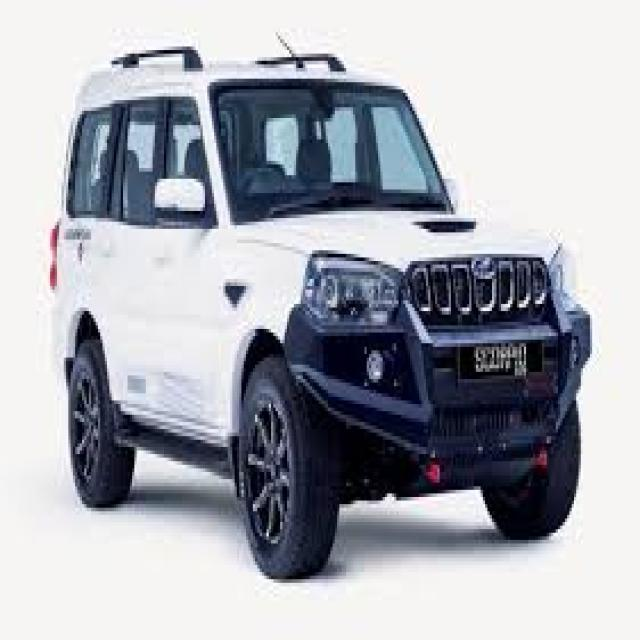cars: (41, 31, 600, 578)
